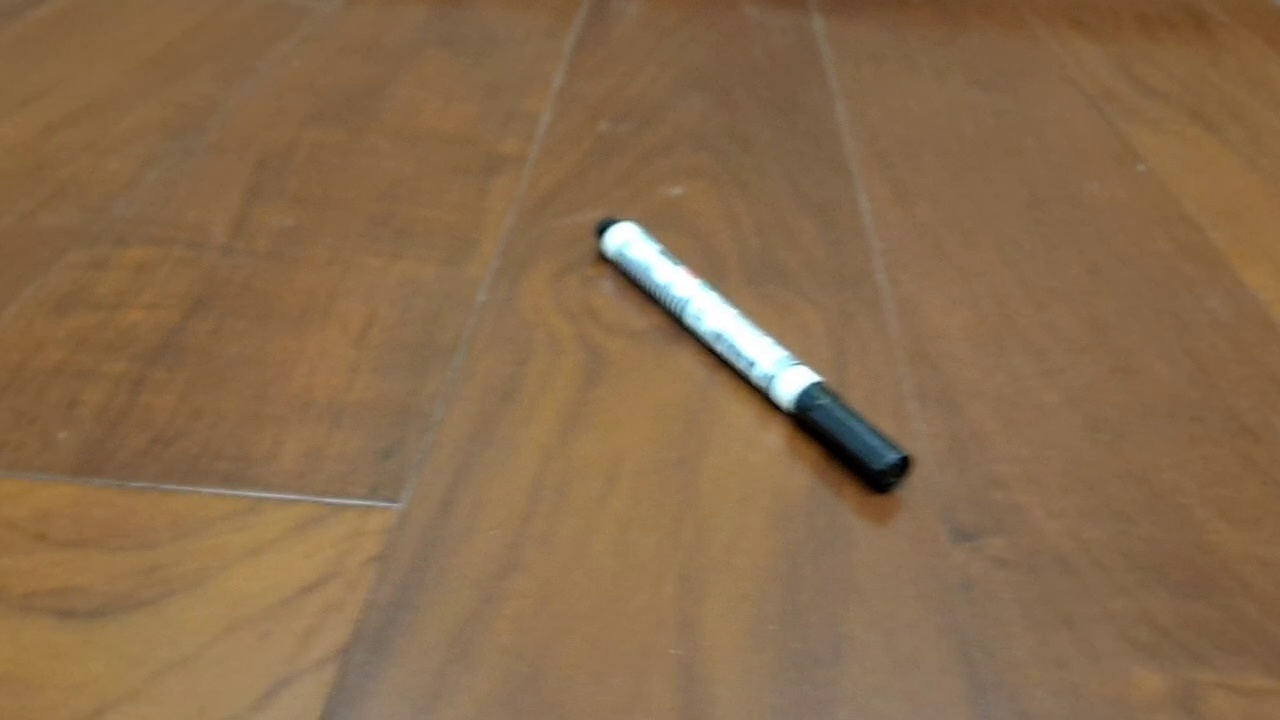pen: (594, 215, 917, 496)
